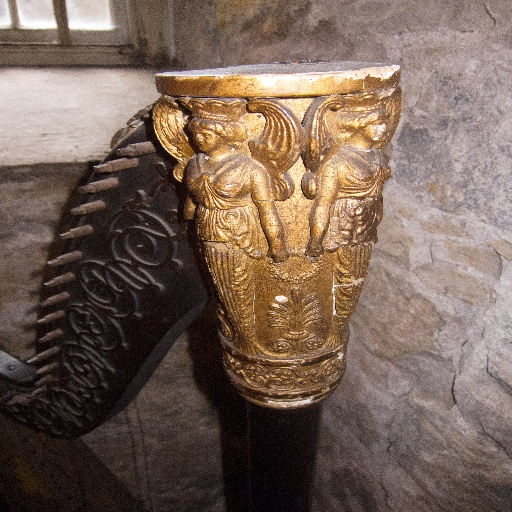hand: (262, 248, 290, 263), (302, 242, 327, 257)
